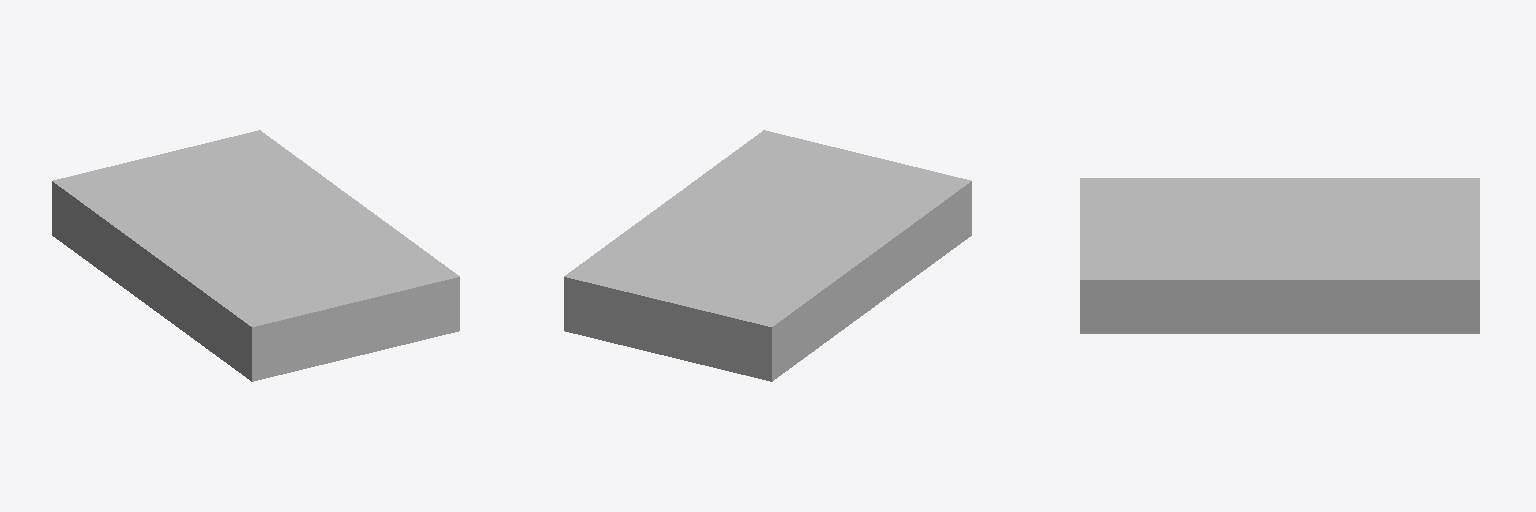
File: Snowy Platform.obj
The picture shows the model from 3 angles: view 1: azimuth 30°, elevation 25°; view 2: azimuth 150°, elevation 25°; view 3: azimuth 270°, elevation 25°; orthographic projection.
Parts seen in each view (by area): view 1: Snowy Platform; view 2: Snowy Platform; view 3: Snowy Platform.
Part boxes in pixels (left/top/right/bottom): Snowy Platform: left=52, top=130, right=459, bottom=381; Snowy Platform: left=564, top=130, right=971, bottom=381; Snowy Platform: left=1080, top=178, right=1479, bottom=333.
Size of the model in its own units: 12 by 3 by 20.